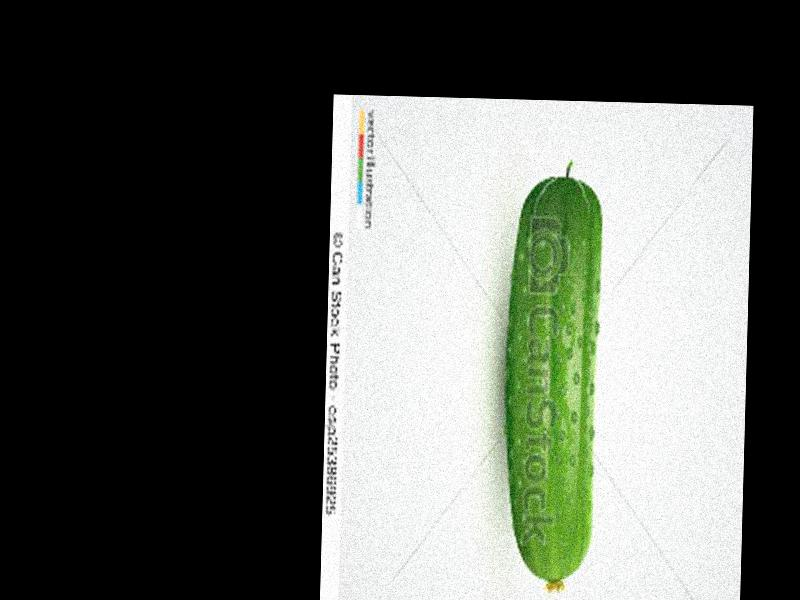Cucumber: (501, 158, 605, 595)
